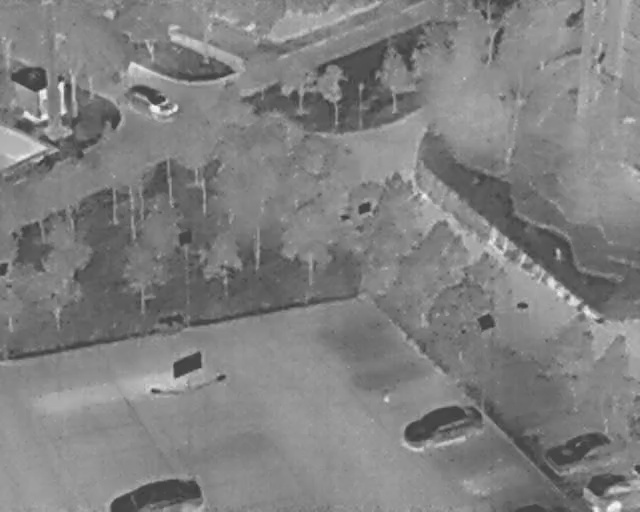Car: (394, 394, 487, 459), (540, 420, 614, 479), (118, 73, 185, 127), (104, 476, 202, 511), (576, 459, 638, 508)
